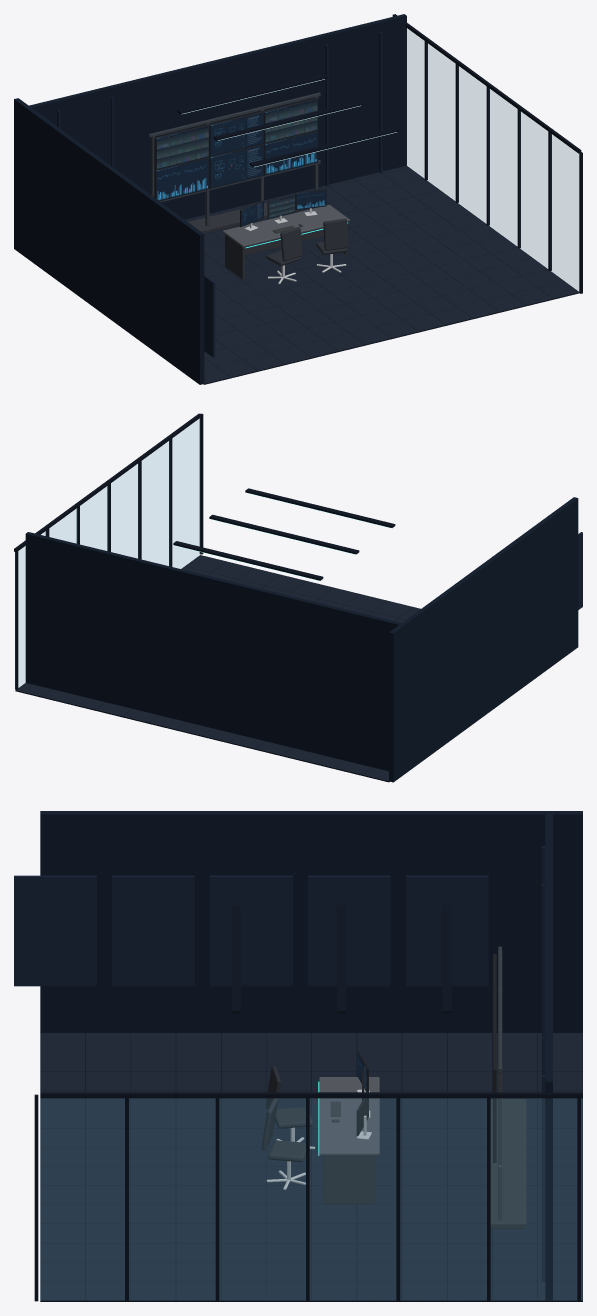
File: supervision-room.glb
The picture shows the model from 3 angles, top to bottom: view 1: azimuth 30°, elevation 25°; view 2: azimuth 150°, elevation 25°; view 3: azimuth 270°, elevation 25°; orthographic projection. The views are drawn at different scales.
Visible parts, largest first — view 1: Floor_Tiles, Back_Wall, Left_Wall, Glass, Floor_Base, Desk_Top, Screen_0, Screen_3, Screen_4, Screen_2, Screen_1, Screen_5 (+20 smaller); view 2: Back_Wall, Left_Wall, Glass, Floor_Tiles, Mullion_Top, Floor_Base, Light_Housing.002, Light_Housing, Light_Housing.001, Mullion.006, Mullion, Mullion.005; view 3: Floor_Tiles, Glass, Left_Wall, Acoustic_Panel.003, Acoustic_Panel.004, Acoustic_Panel.001, Acoustic_Panel, Acoustic_Panel.002, Floor_Base, Wall_Base, Back_Wall, Desk_Top (+17 smaller).
Part boxes in pixels (left/top/right/bottom): Floor_Tiles: left=185, top=165, right=578, bottom=383; Back_Wall: left=29, top=14, right=406, bottom=219; Left_Wall: left=14, top=98, right=204, bottom=384; Glass: left=407, top=28, right=578, bottom=291; Floor_Base: left=191, top=167, right=579, bottom=384; Desk_Top: left=222, top=204, right=349, bottom=247; Screen_0: left=156, top=126, right=209, bottom=169; Screen_3: left=156, top=158, right=209, bottom=200; Screen_4: left=210, top=144, right=263, bottom=188; Screen_2: left=264, top=99, right=318, bottom=142; Screen_1: left=210, top=112, right=263, bottom=156; Screen_5: left=264, top=131, right=318, bottom=175; Back_Wall: left=25, top=532, right=401, bottom=771; Left_Wall: left=389, top=497, right=578, bottom=782; Glass: left=15, top=418, right=200, bottom=689; Floor_Tiles: left=16, top=555, right=420, bottom=781; Mullion_Top: left=14, top=413, right=201, bottom=552; Floor_Base: left=15, top=561, right=413, bottom=782; Light_Housing.002: left=245, top=488, right=395, bottom=527; Light_Housing: left=173, top=541, right=323, bottom=580; Light_Housing.001: left=209, top=514, right=359, bottom=554; Mullion.006: left=199, top=413, right=203, bottom=554; Mullion: left=15, top=551, right=18, bottom=689; Mullion.005: left=169, top=438, right=172, bottom=566; Floor_Tiles: left=40, top=1033, right=582, bottom=1300; Glass: left=40, top=1098, right=582, bottom=1300; Left_Wall: left=40, top=811, right=582, bottom=1032; Acoustic_Panel.003: left=112, top=875, right=194, bottom=986; Acoustic_Panel.004: left=14, top=875, right=96, bottom=986; Acoustic_Panel.001: left=308, top=875, right=390, bottom=986; Acoustic_Panel: left=406, top=875, right=488, bottom=986; Acoustic_Panel.002: left=210, top=875, right=292, bottom=986; Floor_Base: left=40, top=1033, right=582, bottom=1301; Wall_Base: left=490, top=1099, right=526, bottom=1228; Back_Wall: left=545, top=814, right=552, bottom=1300; Desk_Top: left=319, top=1077, right=379, bottom=1155.
Bounding box in the file's own units: 8.53 × 3.22 × 7.55.
24 materials, 9 textured.
